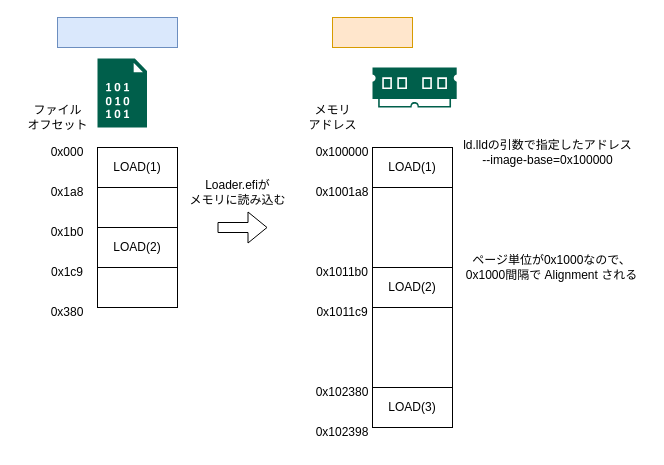
The diagram is 664 pixels wide and 465 high, and some of its shapes have lost their labels. Each missing label, with the box of its shape:
kernel.elfファイル: (56, 16, 178, 48)
仮想メモリ: (332, 16, 412, 48)
